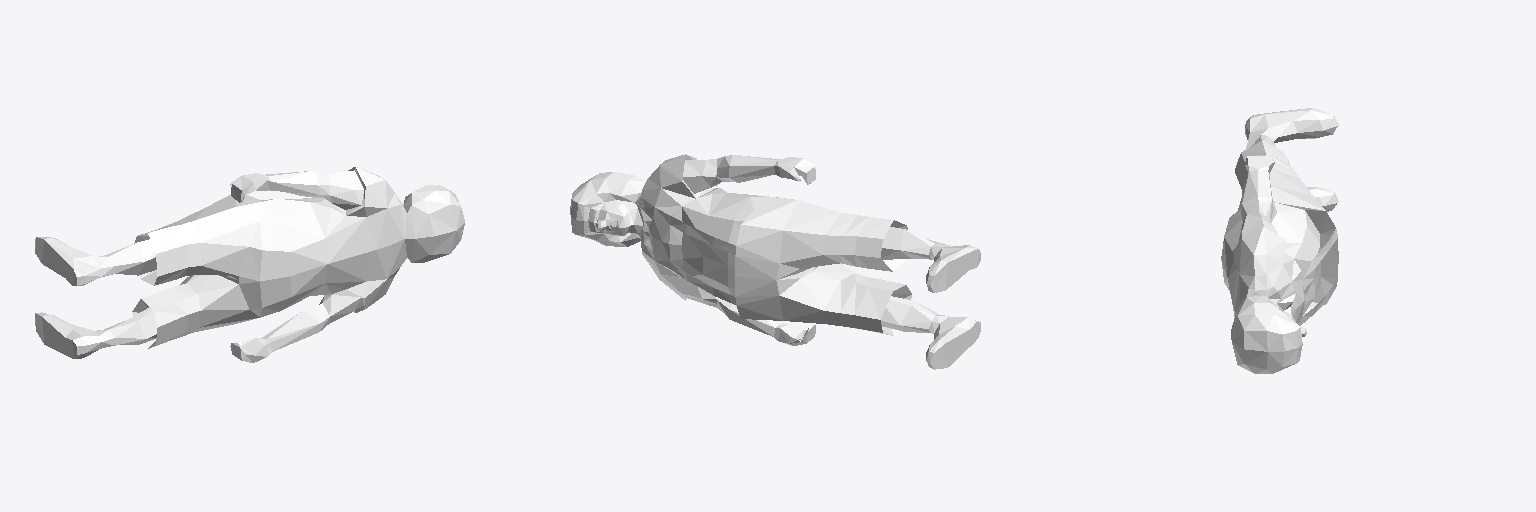
Rendered from MrWhoopeeClown.obj.
3 views of the same model, side by side, from view 1: azimuth 30°, elevation 25°; view 2: azimuth 150°, elevation 25°; view 3: azimuth 270°, elevation 25° (orthographic).
Visible parts, largest first — view 1: unnamed; view 2: unnamed; view 3: unnamed.
Part boxes in pixels (x1,y1,x2,y2): unnamed: (35,167,464,362); unnamed: (570,154,980,369); unnamed: (1221,108,1338,373).
Size of the model in its own units: 1.9 by 0.8375 by 0.4918.